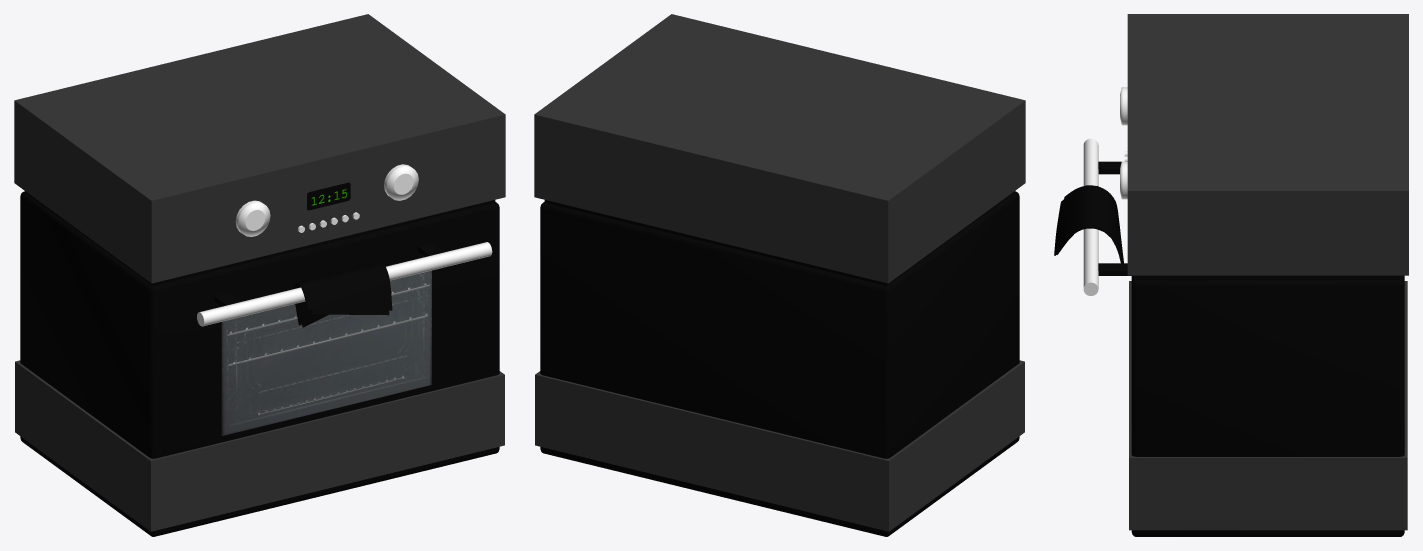
The model's file is Oven.FBX.
The picture shows the model from 3 angles, left to right: view 1: azimuth 30°, elevation 25°; view 2: azimuth 150°, elevation 25°; view 3: azimuth 270°, elevation 25°; orthographic projection. The views are drawn at different scales.
Parts seen in each view (by area): view 1: Box006, ChamferBox006, Plane001, mssake, Cylinder003, zrar; view 2: Box006, ChamferBox006; view 3: Box006, ChamferBox006, mssake, Cylinder003, zrar.
Boxes of the visible parts, x1=… form: Box006: x1=14, y1=14, x2=505, y2=531; ChamferBox006: x1=20, y1=191, x2=499, y2=536; Plane001: x1=221, y1=182, x2=431, y2=435; mssake: x1=293, y1=262, x2=392, y2=327; Cylinder003: x1=197, y1=242, x2=492, y2=326; zrar: x1=235, y1=164, x2=418, y2=236; Box006: x1=534, y1=14, x2=1025, y2=531; ChamferBox006: x1=540, y1=191, x2=1019, y2=536; Box006: x1=1127, y1=14, x2=1408, y2=530; ChamferBox006: x1=1098, y1=161, x2=1404, y2=536; mssake: x1=1054, y1=185, x2=1123, y2=263; Cylinder003: x1=1083, y1=138, x2=1098, y2=295; zrar: x1=1120, y1=87, x2=1127, y2=199.
Bounding box in the file's own units: 1238 × 1137 × 1049.
Materials: 4 (1 with a texture image).
